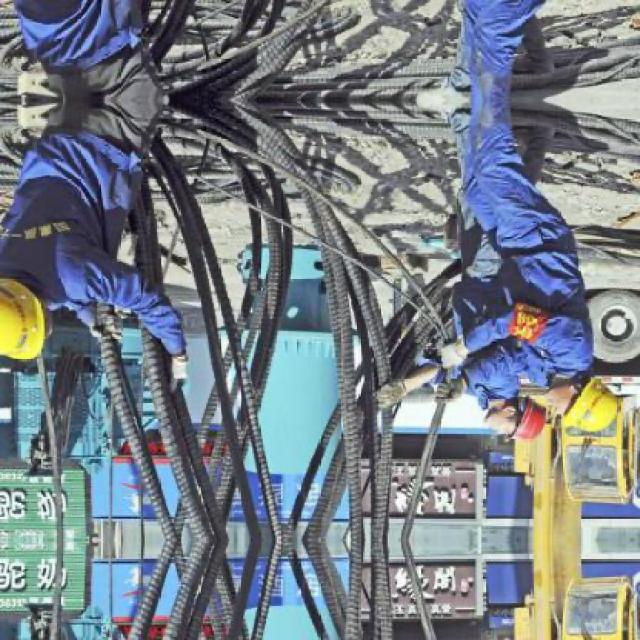con casco: (553, 375, 625, 453), (0, 292, 63, 366)
